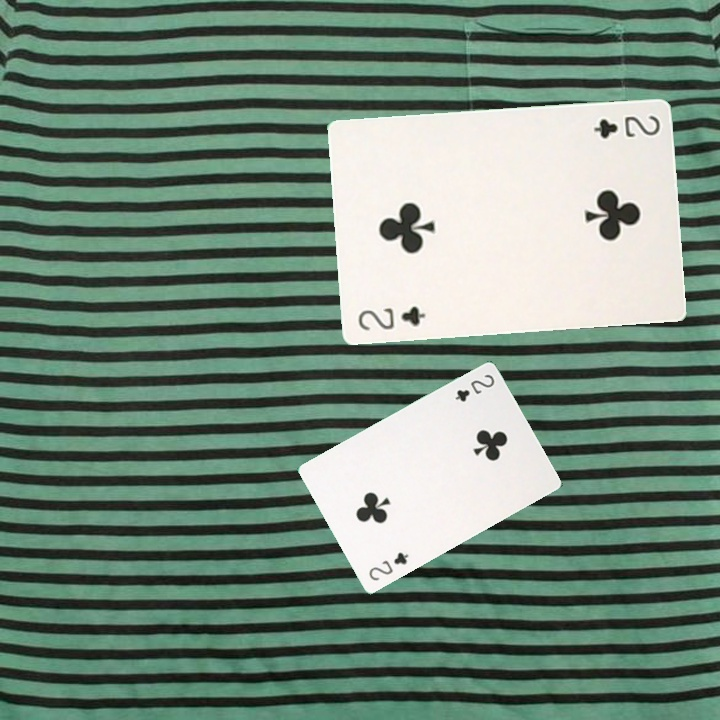2c: (354, 302, 428, 333), (590, 111, 662, 141), (364, 548, 411, 583), (451, 370, 497, 404)
